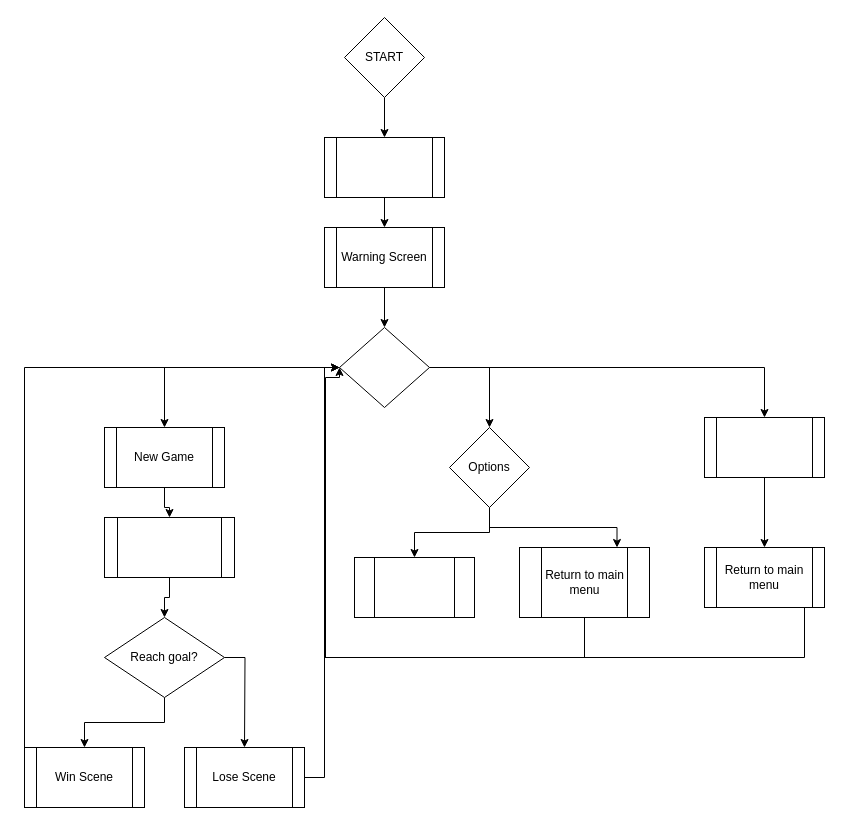
The diagram is 842 pixels wide and 825 high, and some of its shapes have lost their labels. Each missing label, with the centre of its shape:
Change Volume: point (414, 587)
Credits: point (764, 447)
First Cinematic: point (384, 167)
Gameplay Scene: point (169, 547)
Main Menu: point (384, 367)
